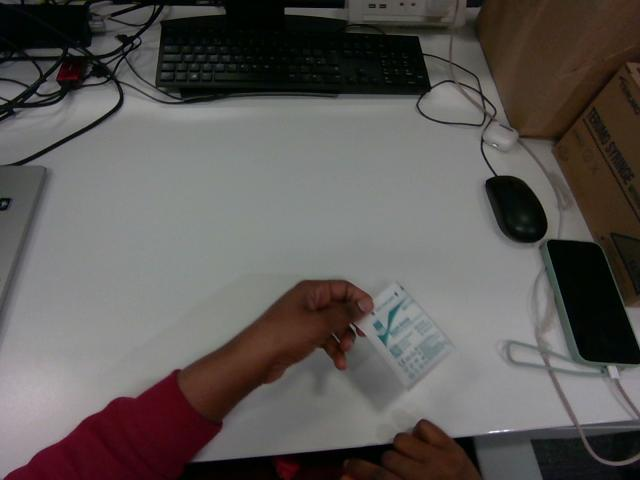gauze: (357, 283, 452, 387)
